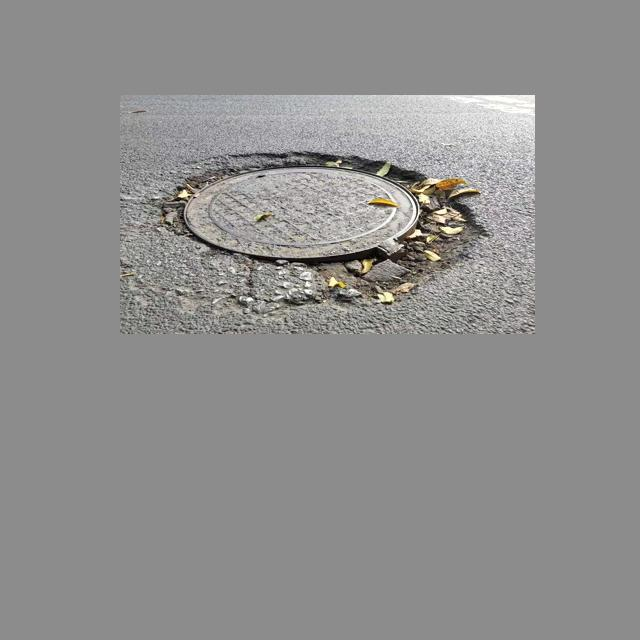circle: (129, 150, 479, 307)
